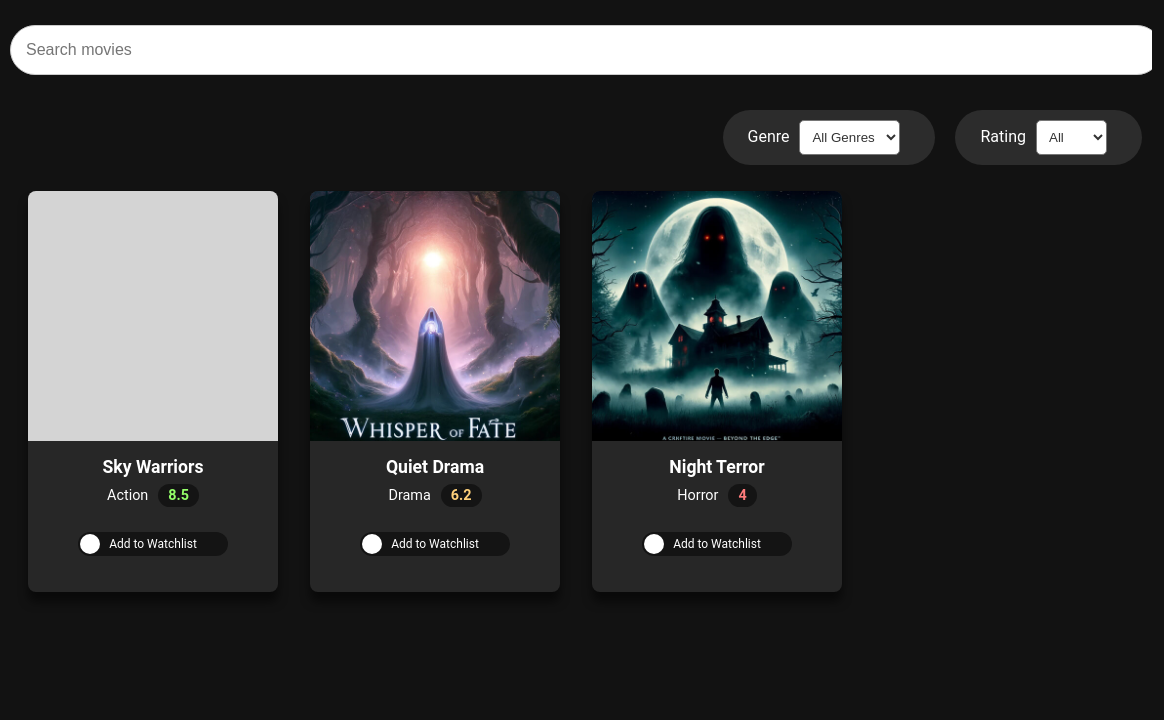
Test case: searches the movie catalog by title
In the field labelled "Search movies": (581, 50) [10,25,1152,75], type "Quiet"
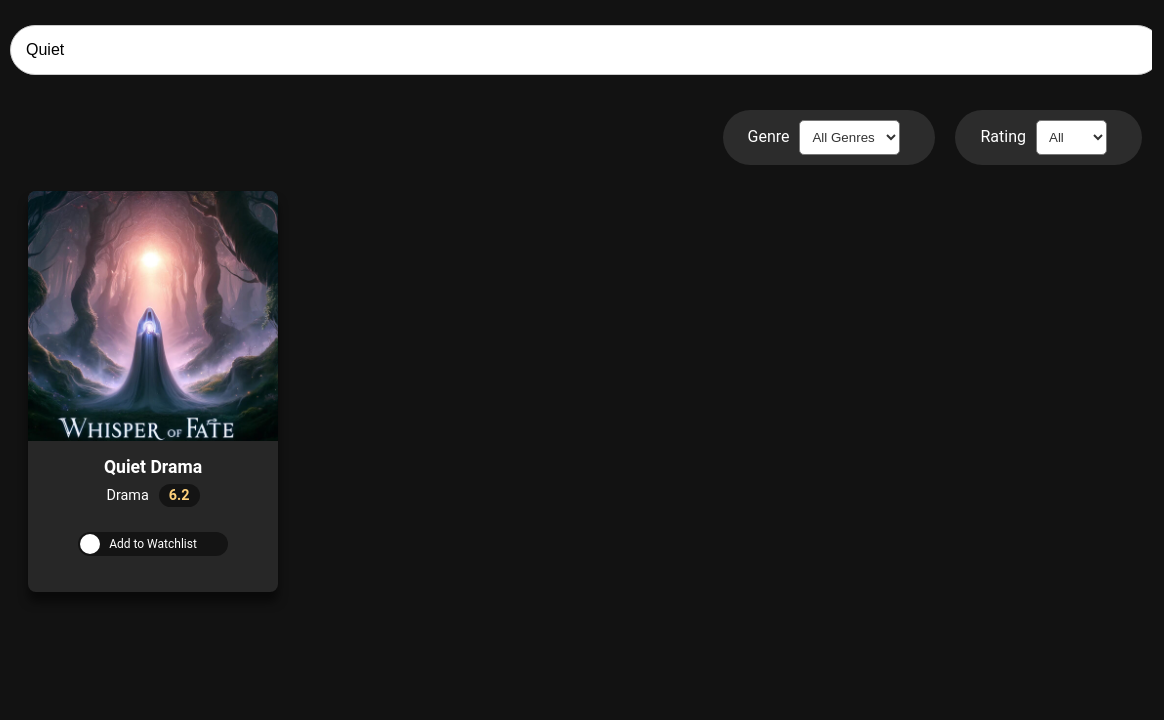
Expected: the heading "Quiet Drama" is shown, [104,457,202,477]
Now the heading "Sky Warriors" is gone
